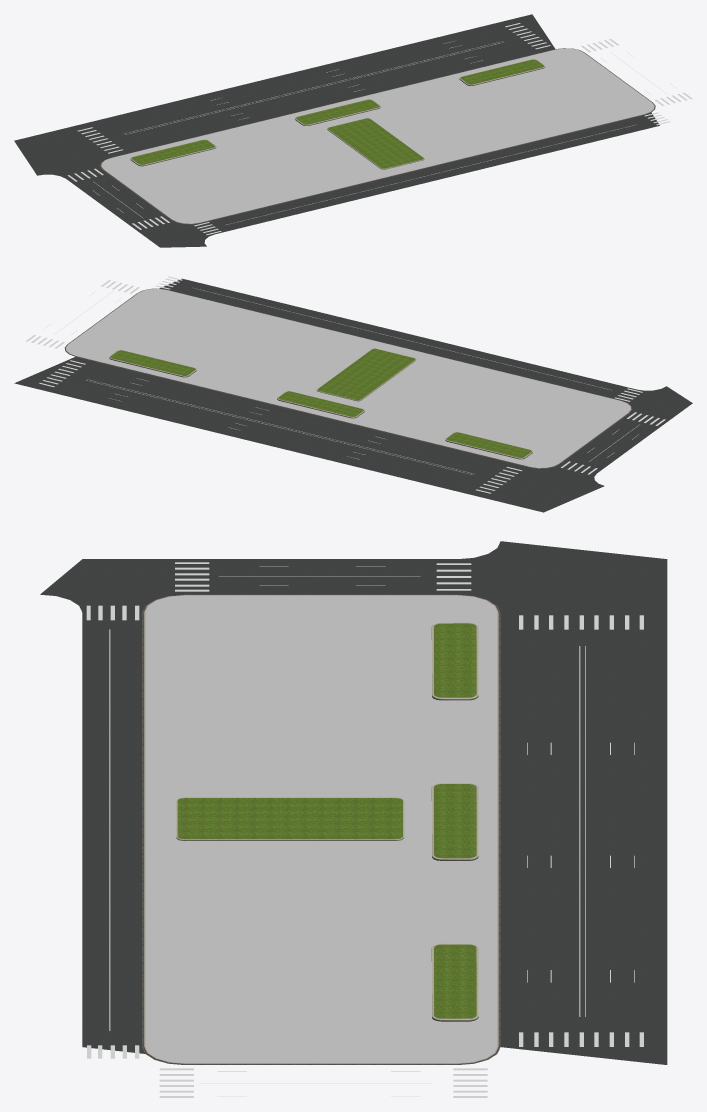
File: Terrain_Area_02.fbx
3 views of the same model, one above another, from view 1: azimuth 30°, elevation 25°; view 2: azimuth 150°, elevation 25°; view 3: azimuth 270°, elevation 25° (orthographic). The views are drawn at different scales.
Parts seen in each view (by area): view 1: Area_02, Road_04, Road_Alpha_04, Road_Alpha_14, Road_Alpha_15; view 2: Area_02, Road_04, Road_Alpha_04, Road_Alpha_14, Road_Alpha_15; view 3: Area_02, Road_04, Road_Alpha_04, Road_Alpha_14, Road_Alpha_15, Road_Alpha_11.
Part boxes in pixels (x1,y1,x2,y2): Area_02: (100,48,655,224); Road_04: (14,14,659,247); Road_Alpha_04: (77,23,550,153); Road_Alpha_14: (194,112,670,234); Road_Alpha_15: (581,39,692,105); Area_02: (64,288,632,468); Road_04: (14,278,692,512); Road_Alpha_04: (39,360,522,493); Road_Alpha_14: (156,276,642,401); Road_Alpha_15: (26,280,139,348); Area_02: (142,594,500,1064); Road_04: (40,541,667,1064); Road_Alpha_04: (519,615,643,1046); Road_Alpha_14: (86,605,139,1058); Road_Alpha_15: (159,1068,487,1097); Road_Alpha_11: (175,562,471,591).
Bounding box in the file's own units: 15586 × 31.39 × 7422.
